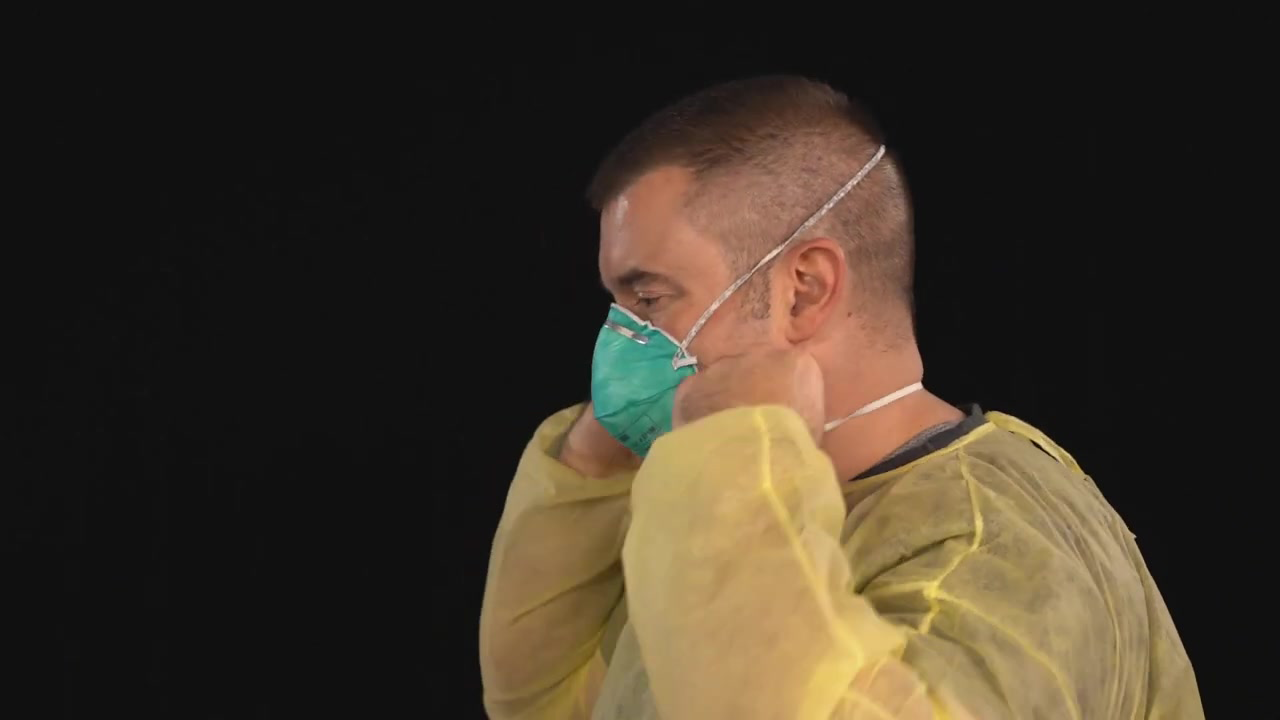Coverall: (489, 408, 1183, 720)
with_mask: (583, 274, 727, 448)
